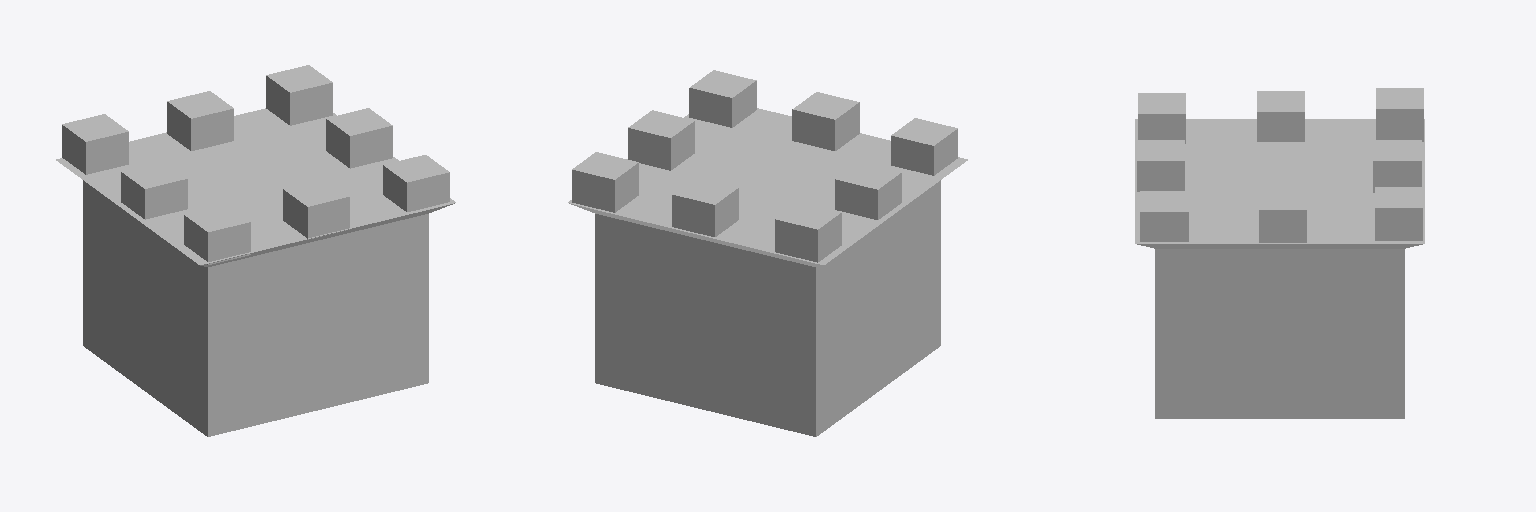
Rendered from tower.obj.
The picture shows the model from 3 angles: view 1: azimuth 30°, elevation 25°; view 2: azimuth 150°, elevation 25°; view 3: azimuth 270°, elevation 25°; orthographic projection.
Visible parts, largest first — view 1: Cube.001, Cube_Cube.002, Cube.003_Cube.004, Cube.008_Cube.009, Cube.006_Cube.007, Cube.005_Cube.006, Cube.002_Cube.003, Cube.007_Cube.008, Cube.004_Cube.005; view 2: Cube.001, Cube.003_Cube.004, Cube_Cube.002, Cube.006_Cube.007, Cube.008_Cube.009, Cube.005_Cube.006, Cube.007_Cube.008, Cube.004_Cube.005, Cube.002_Cube.003; view 3: Cube.001, Cube.008_Cube.009, Cube.003_Cube.004, Cube_Cube.002, Cube.004_Cube.005, Cube.005_Cube.006, Cube.007_Cube.008, Cube.006_Cube.007, Cube.002_Cube.003.
Boxes of the visible parts, x1,y1,x2,y2 form: Cube.001: [56, 108, 455, 436]; Cube_Cube.002: [62, 114, 128, 174]; Cube.003_Cube.004: [266, 65, 332, 125]; Cube.008_Cube.009: [326, 108, 392, 168]; Cube.006_Cube.007: [167, 91, 233, 150]; Cube.005_Cube.006: [283, 179, 349, 239]; Cube.002_Cube.003: [184, 204, 250, 264]; Cube.007_Cube.008: [121, 161, 187, 219]; Cube.004_Cube.005: [383, 155, 449, 211]; Cube.001: [568, 108, 967, 436]; Cube.003_Cube.004: [572, 152, 638, 212]; Cube_Cube.002: [775, 202, 841, 262]; Cube.006_Cube.007: [672, 177, 738, 236]; Cube.008_Cube.009: [628, 110, 694, 170]; Cube.005_Cube.006: [792, 92, 859, 150]; Cube.007_Cube.008: [835, 162, 901, 219]; Cube.004_Cube.005: [689, 70, 756, 127]; Cube.002_Cube.003: [891, 118, 957, 175]; Cube.001: [1135, 119, 1424, 418]; Cube.008_Cube.009: [1259, 189, 1306, 242]; Cube.003_Cube.004: [1375, 187, 1422, 240]; Cube_Cube.002: [1376, 88, 1423, 141]; Cube.004_Cube.005: [1140, 191, 1188, 241]; Cube.005_Cube.006: [1137, 140, 1184, 191]; Cube.007_Cube.008: [1257, 91, 1304, 141]; Cube.006_Cube.007: [1373, 140, 1421, 192]; Cube.002_Cube.003: [1138, 93, 1185, 143].
Bounding box in the file's own units: 12.31 × 9.96 × 12.01.